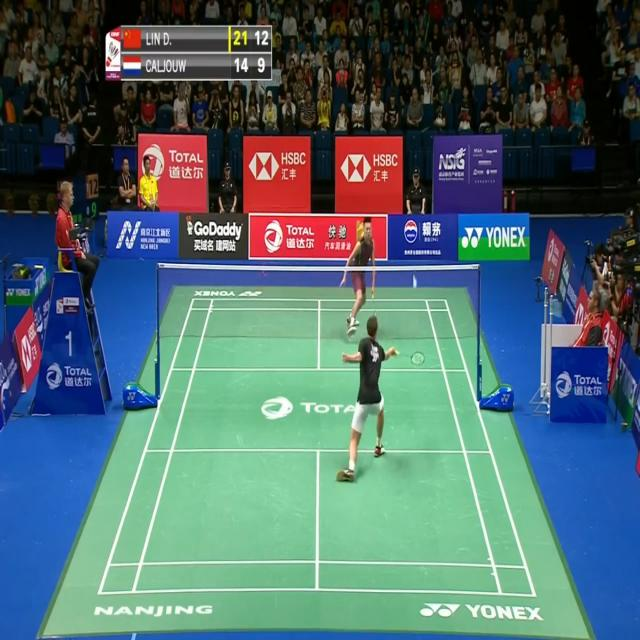Player1: (331, 307, 427, 487)
Player2: (336, 210, 388, 348)
